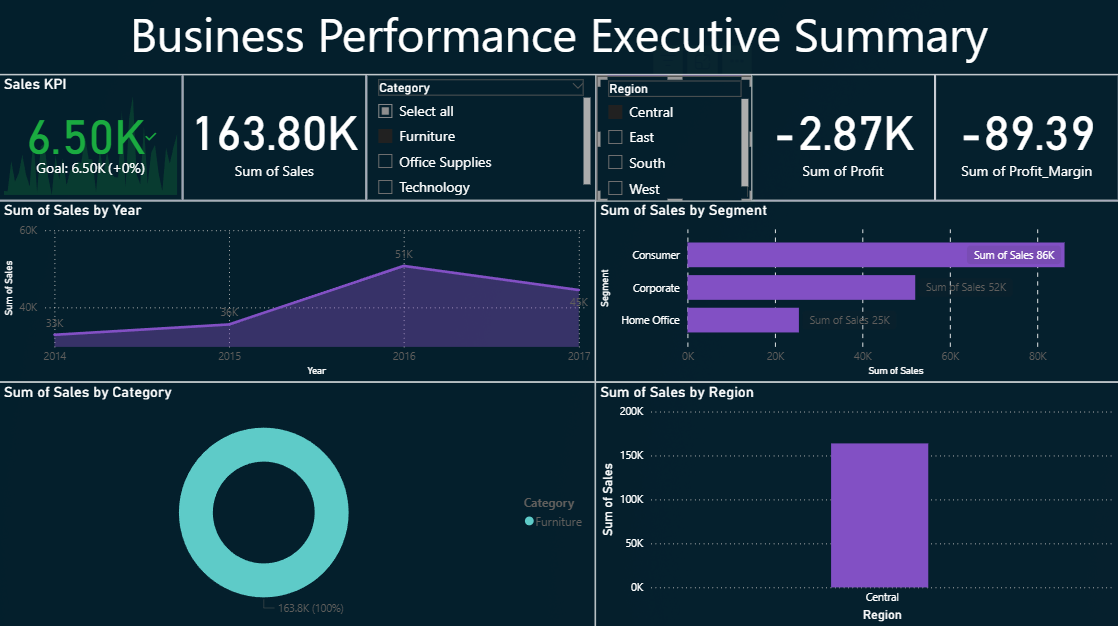

This screenshot's page, from the dashboard's own definition file:
{"tool":"powerbi","page":{"name":"Page 1","canvas":[1280,720],"ordinal":0},"visuals":[{"type":"lineChart","fields":{"Category":["Superstore_clean.MonthYear.Variation.Date Hierarchy.Year","Superstore_clean.MonthYear.Variation.Date Hierarchy.Quarter","Superstore_clean.MonthYear.Variation.Date Hierarchy.Month","Superstore_clean.MonthYear.Variation.Date Hierarchy.Day"],"Y":["Sum(Superstore_clean.Sales)"]},"box":[0,233.3,682,207.2],"z":0},{"type":"clusteredColumnChart","fields":{"Category":["Superstore_clean.Region"],"Y":["Sum(Superstore_clean.Sales)"]},"box":[682,440.5,598.3,279.9],"z":1000},{"type":"donutChart","fields":{"Category":["Superstore_clean.Category"],"Y":["Sum(Superstore_clean.Sales)"]},"box":[0,440.5,682,279.9],"z":2000},{"type":"kpi","title":"Sales KPI","fields":{"Indicator":["Sum(Superstore_clean.Sales)"],"TrendLine":["Superstore_clean.YearMonth"],"Goal":["Sum(Superstore_clean.Sales)"]},"box":[0,89.2,209.9,144.1],"z":3000},{"type":"slicer","fields":{"Values":["Superstore_clean.Region"]},"box":[682.9,89.6,179.1,144.3],"z":4000},{"type":"slicer","fields":{"Values":["Superstore_clean.Category"]},"box":[419.9,89.2,262.1,144.1],"z":5000},{"type":"card","fields":{"Values":["Sum(Superstore_clean.Sales)"]},"box":[209.9,89.2,209.9,144.1],"z":6000},{"type":"card","fields":{"Values":["Sum(Superstore_clean.Profit)"]},"box":[860.4,89.2,209.9,144.1],"z":7000},{"type":"card","fields":{"Values":["Sum(Superstore_clean.Profit_Margin)"]},"box":[1070.3,89.2,209.9,144.1],"z":8000},{"type":"clusteredBarChart","fields":{"Category":["Superstore_clean.Segment"],"Y":["Sum(Superstore_clean.Sales)"]},"box":[682,233.3,598.3,207.2],"z":9000},{"type":"textbox","box":[0,0,1280.3,89.2],"z":10000}]}

Visuals, with their boxes in screenshot pixels (x1, y1, x2, y2), scaled from the page's 1280x720 canvas onto the 1118x626 screenshot:
lineChart - Superstore_clean.MonthYear.Variation.Date Hierarchy.Year x Superstore_clean.MonthYear.Variation.Date Hierarchy.Quarter: left=0, top=203, right=596, bottom=383
clusteredColumnChart - Superstore_clean.Region x Sum(Superstore_clean.Sales): left=596, top=383, right=1117, bottom=625
donutChart - Superstore_clean.Category x Sum(Superstore_clean.Sales): left=0, top=383, right=596, bottom=625
"Sales KPI" kpi: left=0, top=78, right=183, bottom=203
slicer - Superstore_clean.Region: left=596, top=78, right=753, bottom=203
slicer - Superstore_clean.Category: left=367, top=78, right=596, bottom=203
card - Sum(Superstore_clean.Sales): left=183, top=78, right=367, bottom=203
card - Sum(Superstore_clean.Profit): left=752, top=78, right=935, bottom=203
card - Sum(Superstore_clean.Profit_Margin): left=935, top=78, right=1117, bottom=203
clusteredBarChart - Superstore_clean.Segment x Sum(Superstore_clean.Sales): left=596, top=203, right=1117, bottom=383
textbox: left=0, top=0, right=1117, bottom=78
